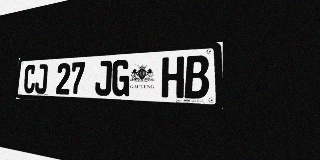2: (56, 63, 71, 95)
7: (69, 62, 85, 95)
B: (184, 55, 209, 99)
C: (23, 65, 36, 93)
G: (111, 59, 130, 96)
H: (161, 56, 184, 98)
J: (95, 60, 112, 96), (35, 64, 48, 94)
